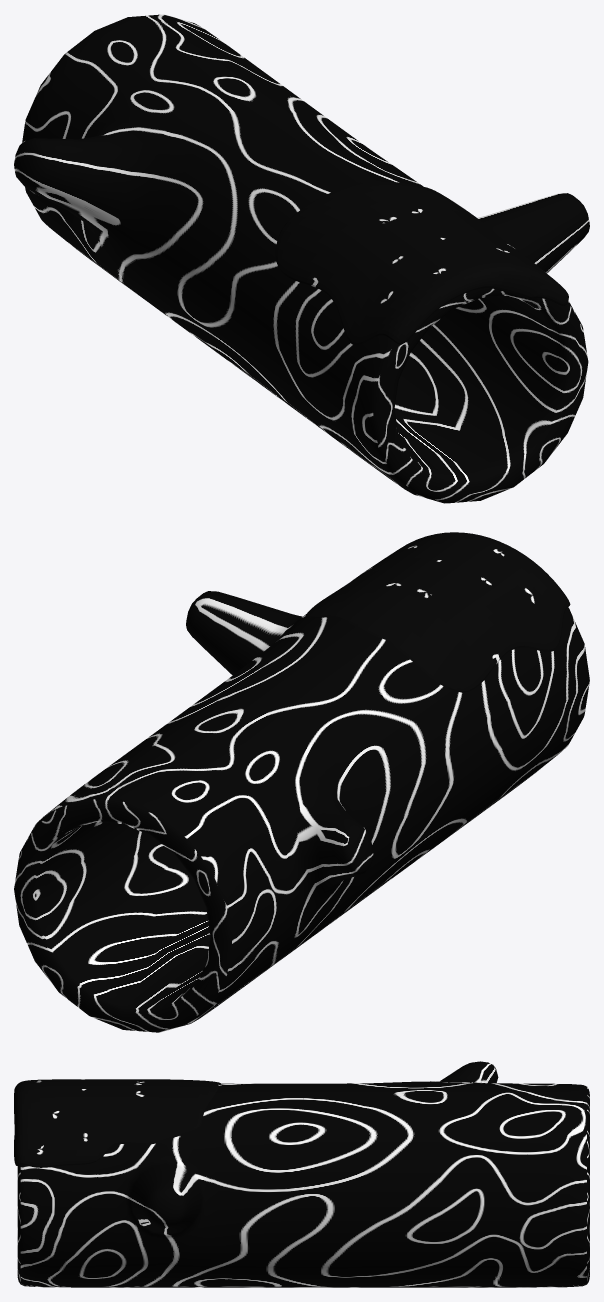
The model's file is marathon.glb.
3 views of the same model, one above another, from view 1: azimuth 30°, elevation 25°; view 2: azimuth 150°, elevation 25°; view 3: azimuth 270°, elevation 25° (orthographic). The views are drawn at different scales.
Visible parts, largest first — view 1: Cylinder.003, Cylinder.004; view 2: Cylinder.003, Cylinder.004; view 3: Cylinder.003, Cylinder.004.
Part boxes in pixels (x1=…): Cylinder.003: x1=14, y1=14, x2=589, y2=503; Cylinder.004: x1=275, y1=181, x2=568, y2=345; Cylinder.003: x1=14, y1=591, x2=589, y2=1032; Cylinder.004: x1=305, y1=532, x2=570, y2=692; Cylinder.003: x1=17, y1=1061, x2=589, y2=1287; Cylinder.004: x1=14, y1=1079, x2=220, y2=1167.
Size of the model in its own units: 3.12 by 1.91 by 5.25.
2 materials, 2 textured.
